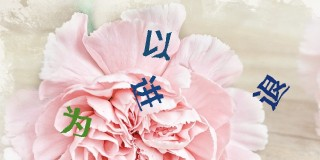为: (60, 105, 92, 138)
以: (143, 28, 172, 61)
进: (130, 75, 165, 111)
退: (252, 74, 291, 111)
